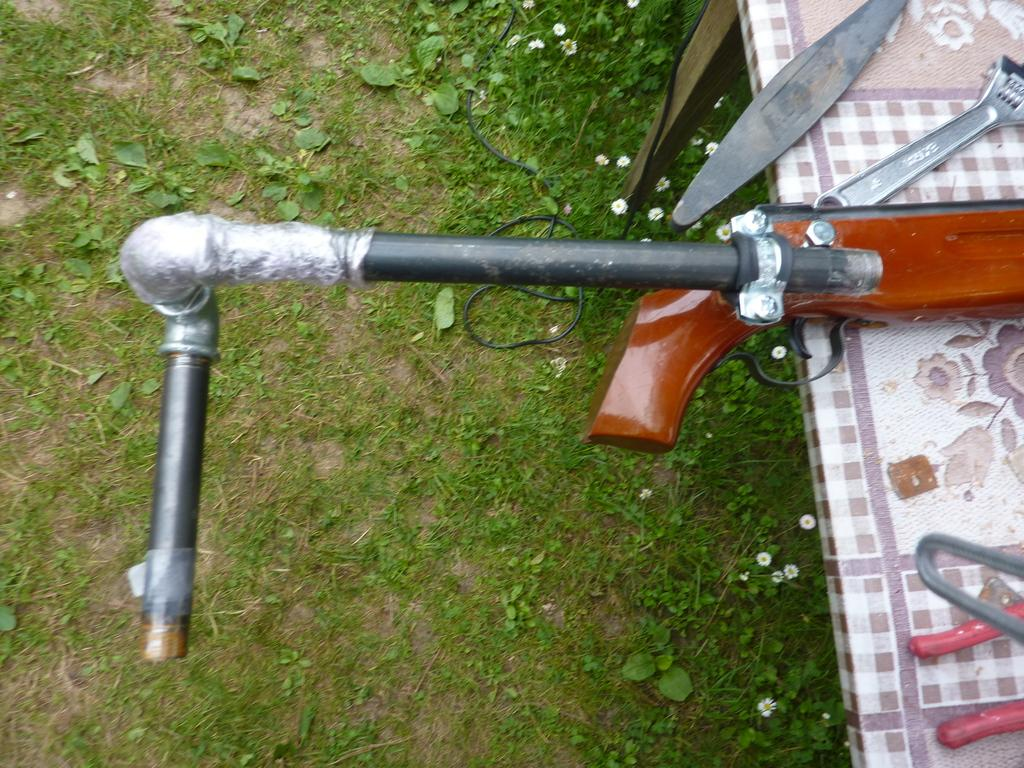Rifle: (576, 202, 1023, 456)
